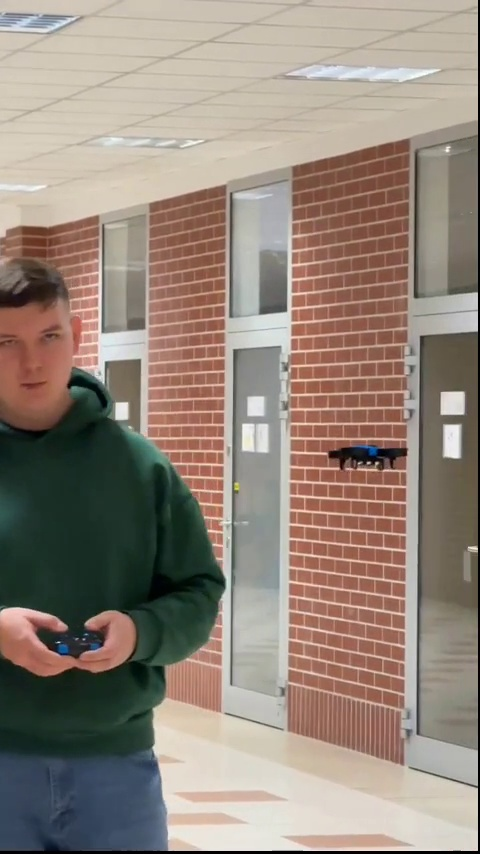drone: (328, 442, 412, 473)
no vest: (0, 257, 228, 835)
